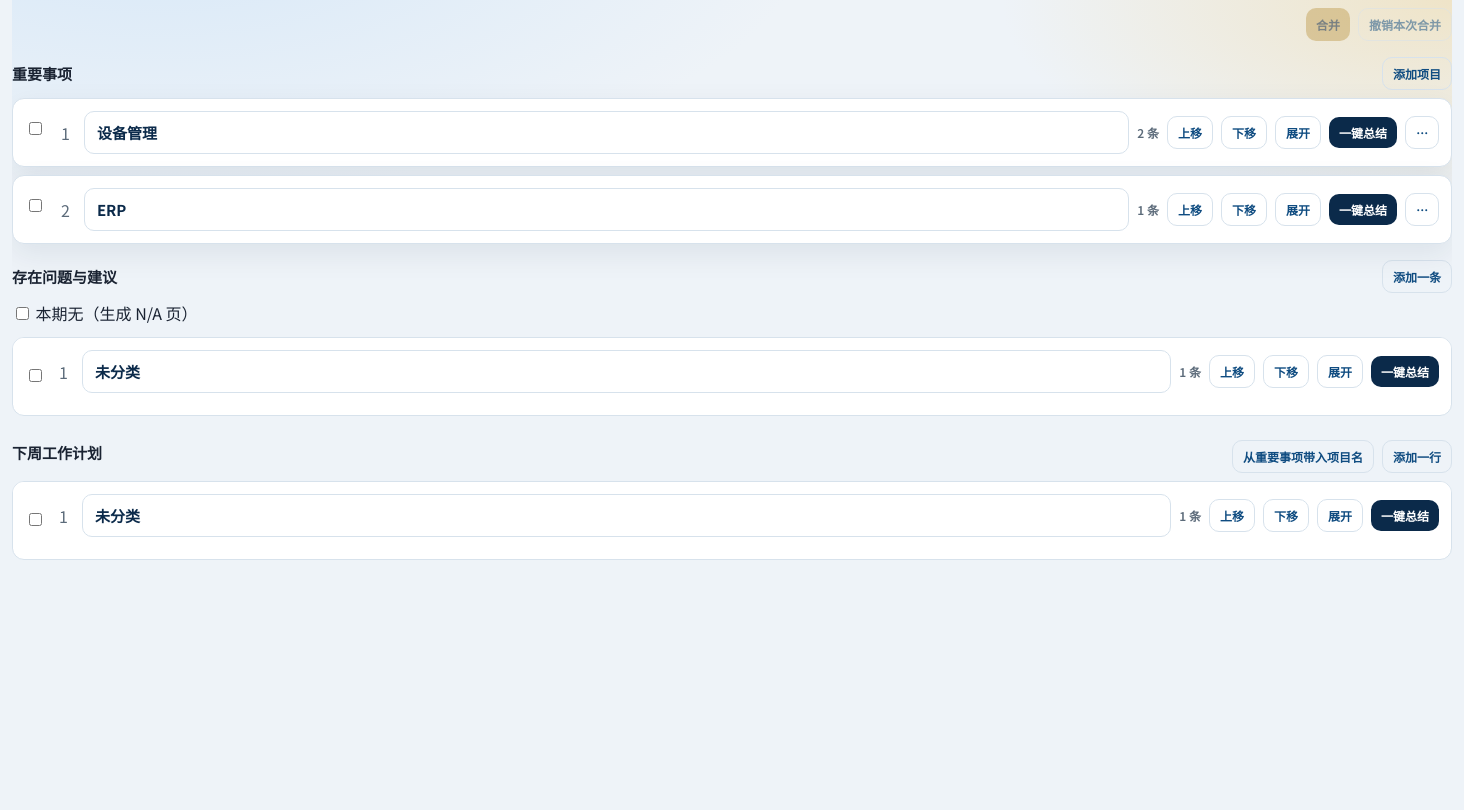
Test case: project bullets list › keeps one textarea and does not offer 移到其他项目
What coordinates should you click on to do the following:
click the button with aria-label "展开 设备管理"
I would click on:
 (1298, 132)
Its box is [1275,116,1321,149].
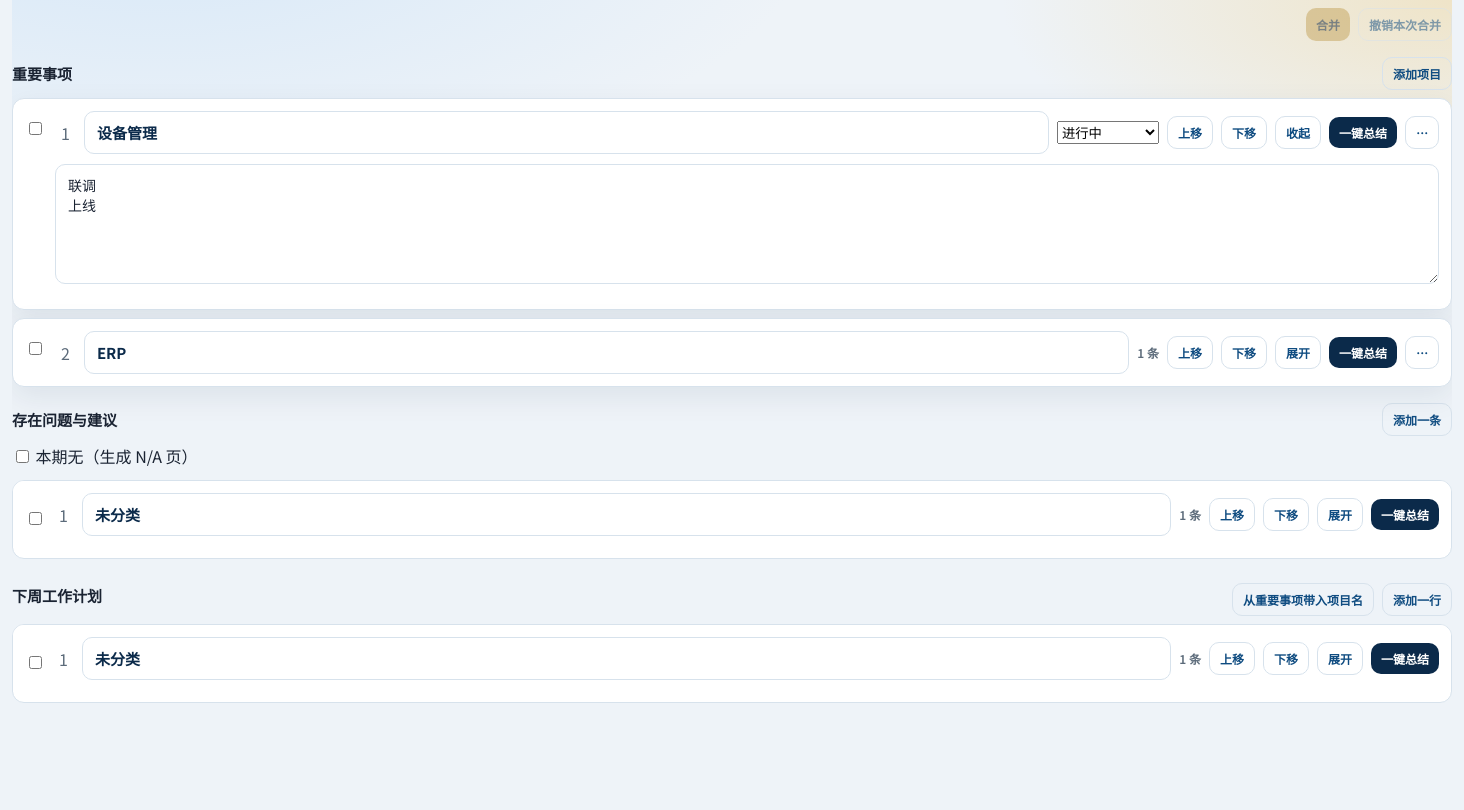
Result: the button named "展开 设备管理" is expanded at [1275,116,1321,149]
